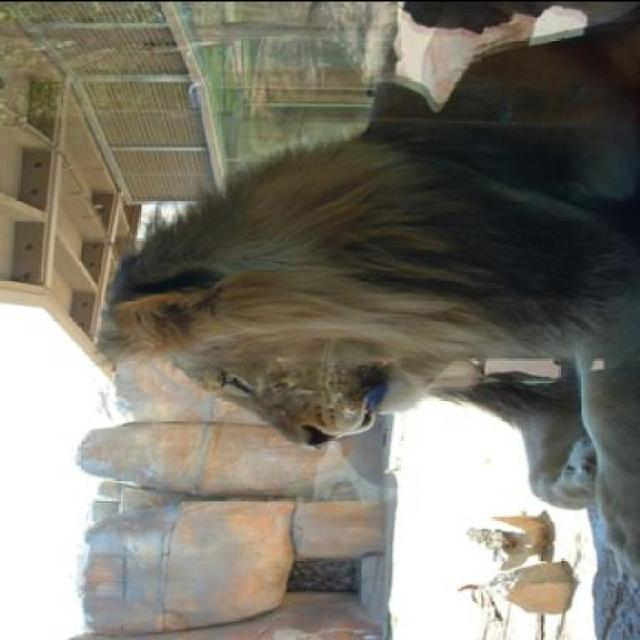Lion: (69, 28, 622, 510)
